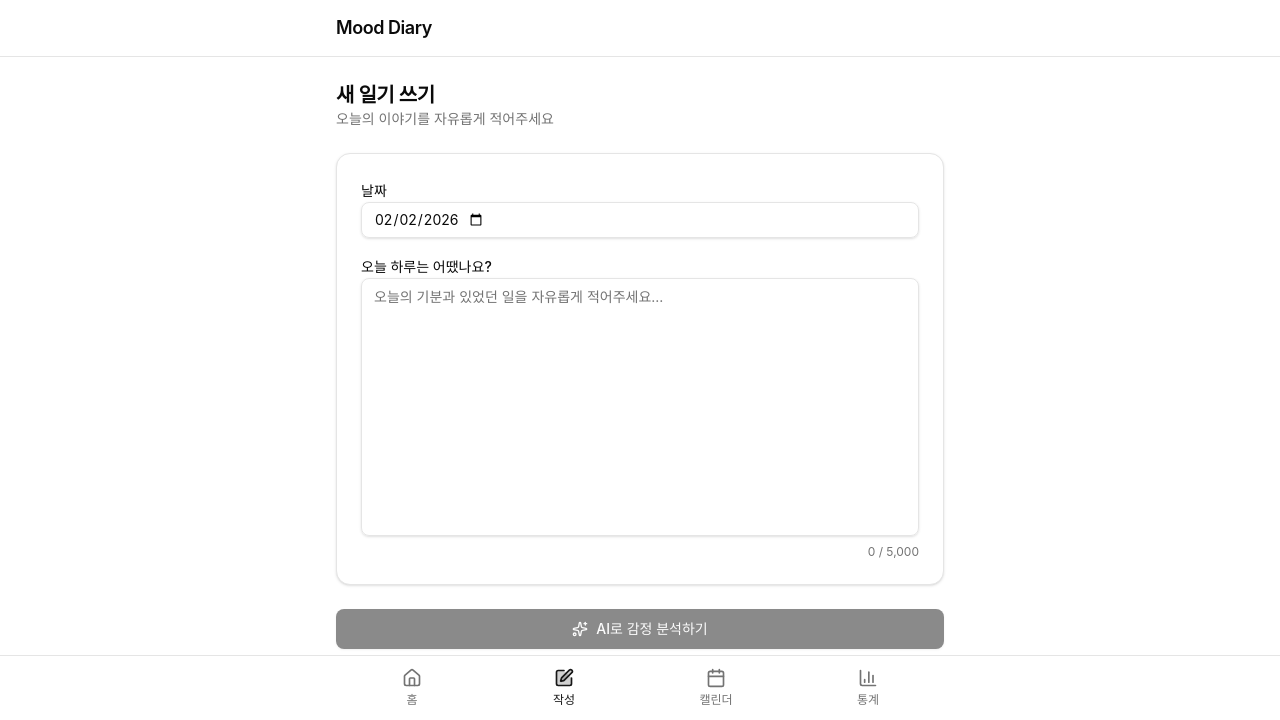
Test case: WritePage (TC-001, TC-003) › TC-003: AI 감정 분류 › TC-003-6: 로딩 인디케이터 › AI 분류 중 로딩 화면이 표시된다
In the text box: (640, 407) [361,278,919,536], type "오늘 하루는 정말 좋았어요."
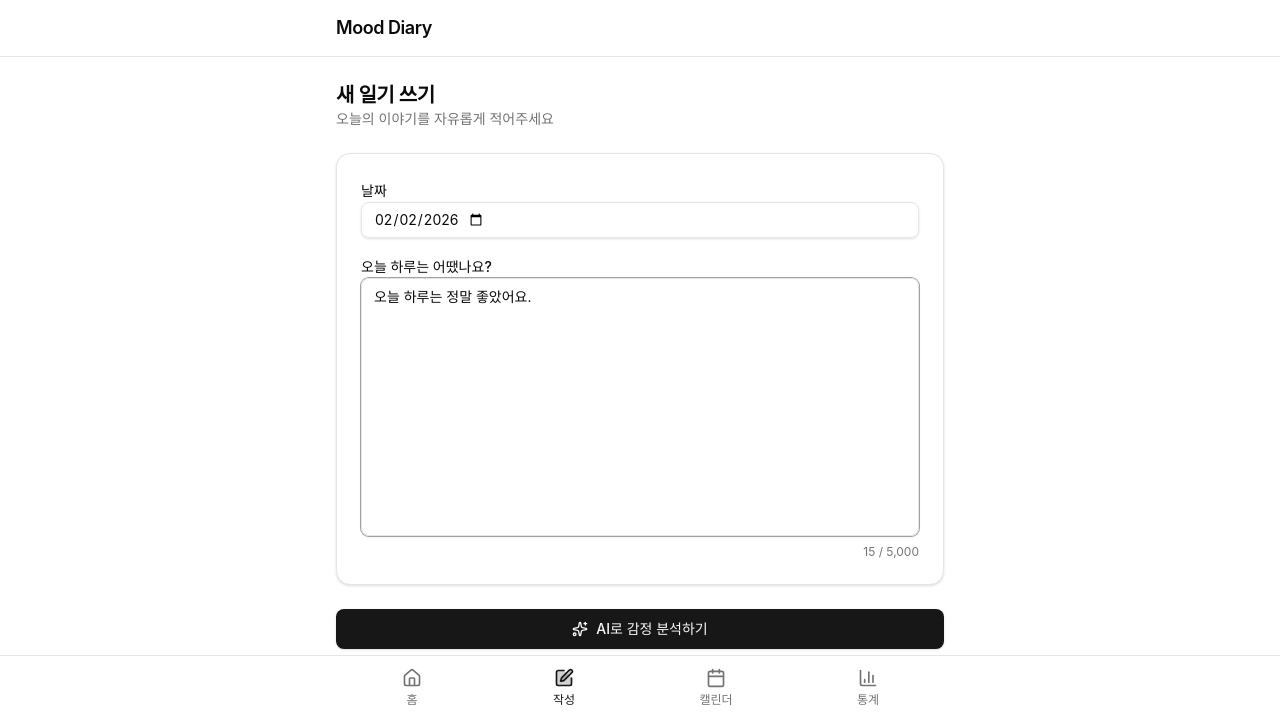
Result: the button "AI로 감정 분석하기" is enabled
Click the button "AI로 감정 분석하기": (640, 629) [336,609,944,649]
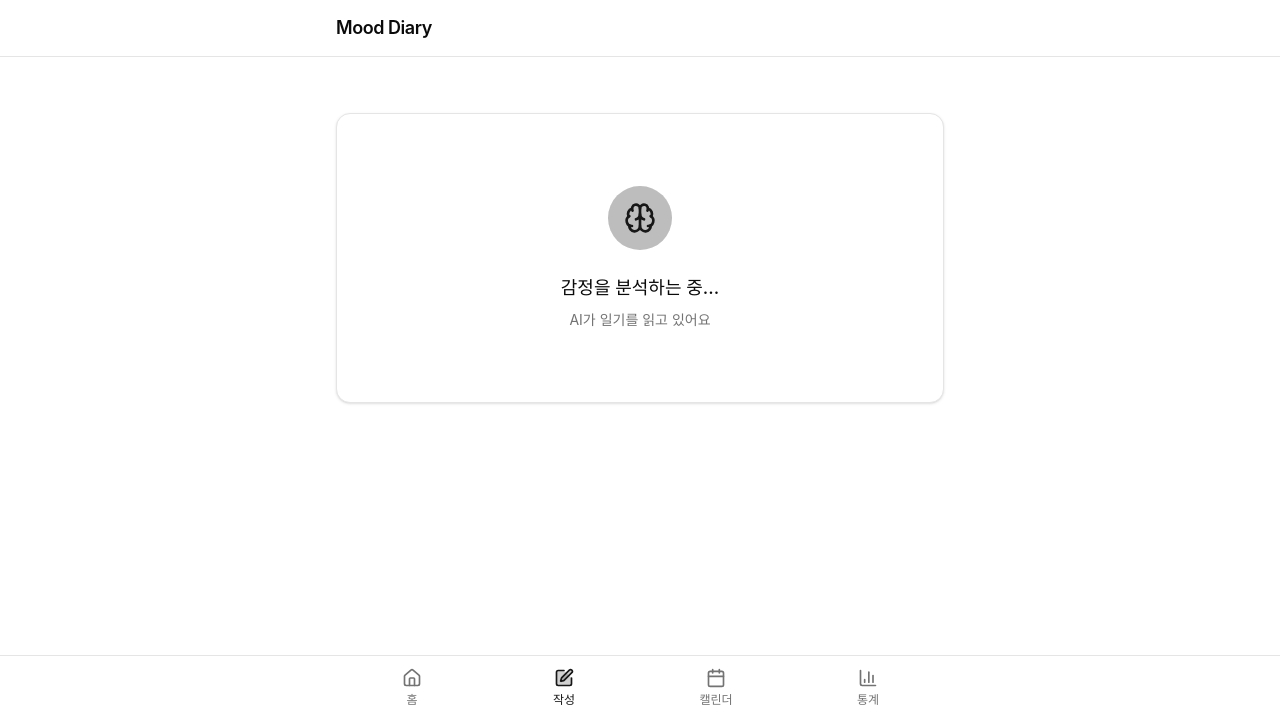
Result: the text "감정을 분석하는 중..." is shown at [561,274,719,302]
